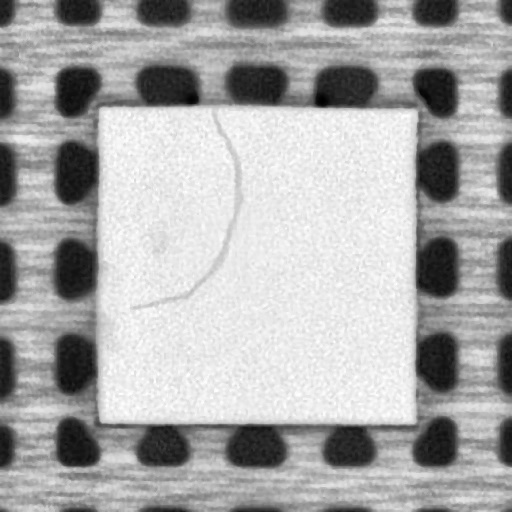DIE_CRACK: (128, 107, 242, 309)
